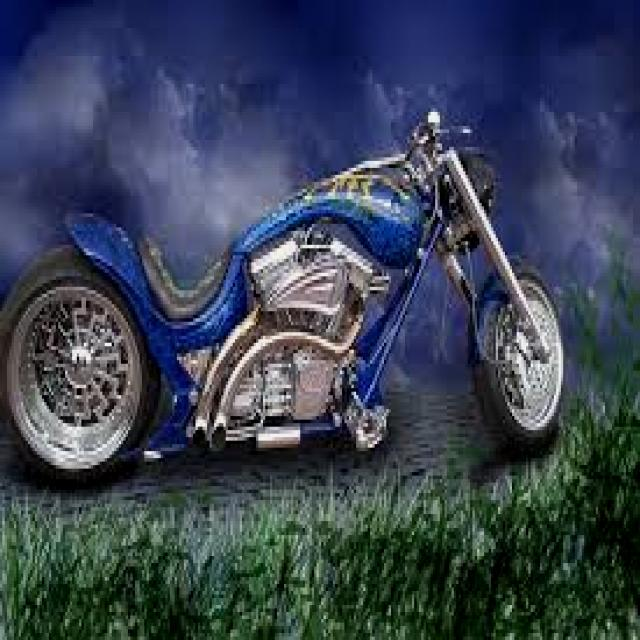MOTORCYCLE: (0, 134, 566, 466)
